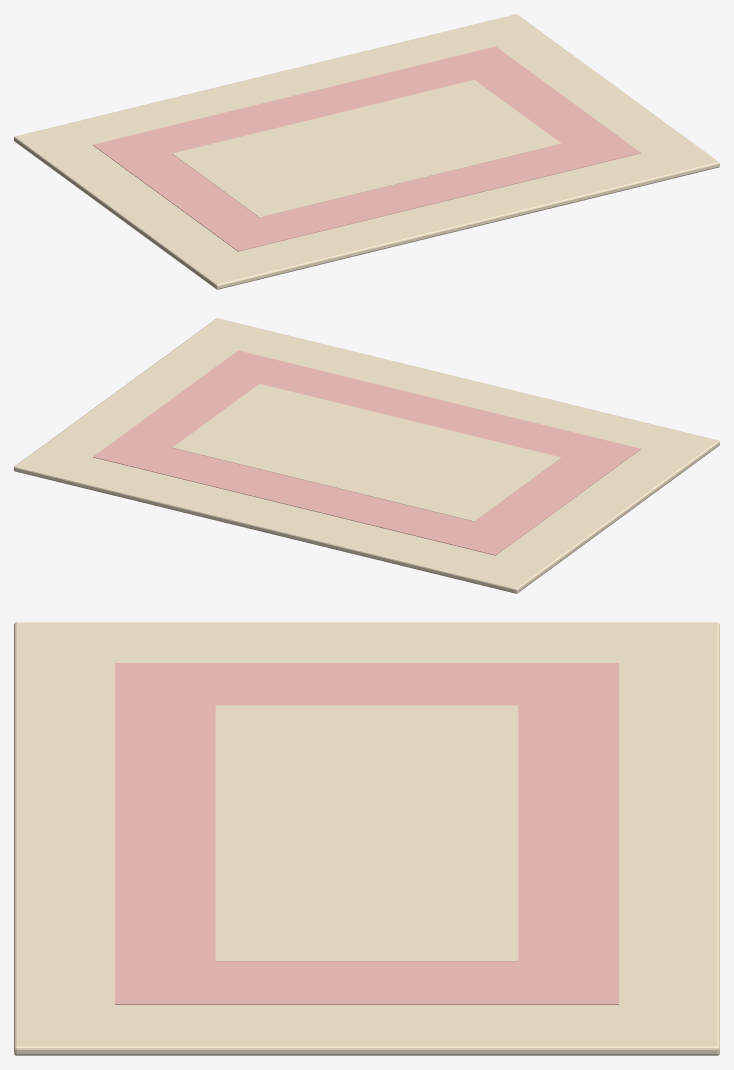
Rendered from tapete.glb.
The picture shows the model from 3 angles, top to bottom: view 1: azimuth 30°, elevation 25°; view 2: azimuth 150°, elevation 25°; view 3: azimuth 270°, elevation 25°; orthographic projection. The views are drawn at different scales.
Visible parts, largest first — view 1: tapete; view 2: tapete; view 3: tapete.
Boxes of the visible parts, x1,y1,x2,y2 form: tapete: [14, 14, 719, 289]; tapete: [14, 318, 719, 593]; tapete: [14, 622, 719, 1055].
Bounding box in the file's own units: 2 × 0.023 × 1.4.
